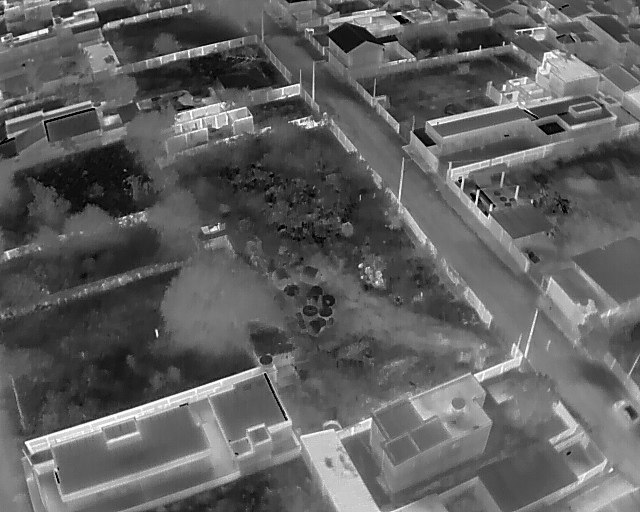car: (615, 394, 635, 427), (520, 240, 538, 271)
person: (542, 335, 553, 352), (571, 320, 582, 337), (568, 335, 579, 351)
